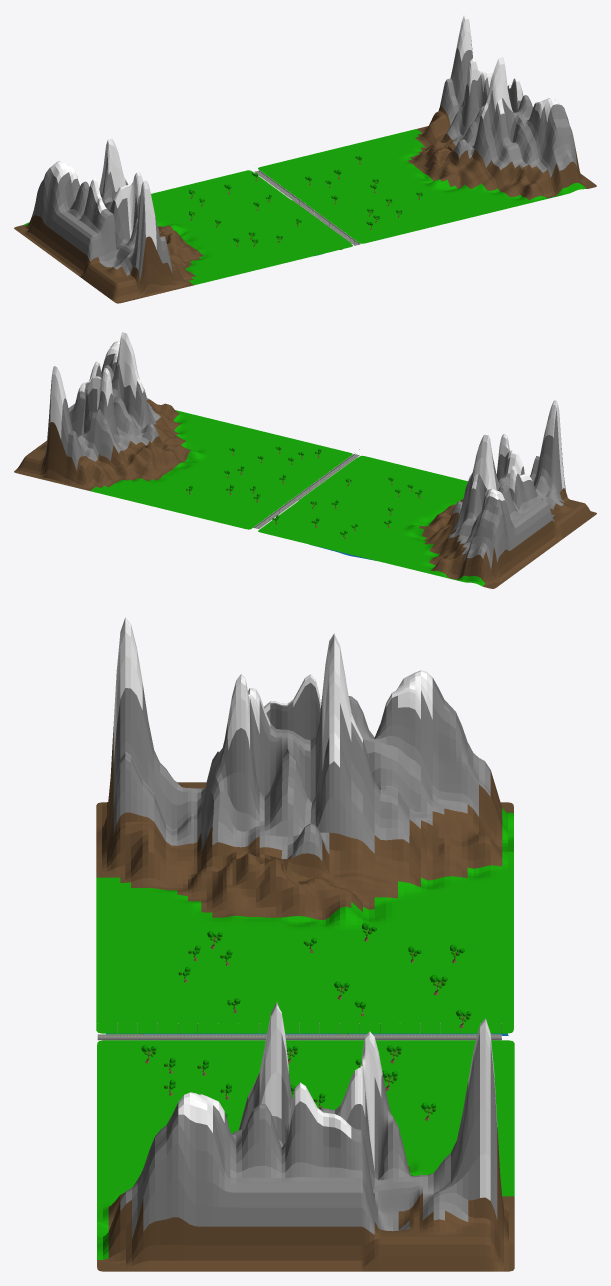
Rendered from Veg.fbx.
The picture shows the model from 3 angles, top to bottom: view 1: azimuth 30°, elevation 25°; view 2: azimuth 150°, elevation 25°; view 3: azimuth 270°, elevation 25°; orthographic projection. The views are drawn at different scales.
Parts seen in each view (by area): view 1: Plane.017, Plane.042; view 2: Plane.017, Plane.042; view 3: Plane.042, Plane.017.
Boxes of the visible parts, bbox=[...] form: Plane.017: bbox=[258, 14, 596, 243]; Plane.042: bbox=[14, 138, 352, 303]; Plane.017: bbox=[14, 332, 352, 529]; Plane.042: bbox=[258, 400, 596, 588]; Plane.042: bbox=[96, 617, 513, 1033]; Plane.017: bbox=[97, 1002, 514, 1271].
Bounding box in the file's own units: 96504 × 22162 × 36352.
